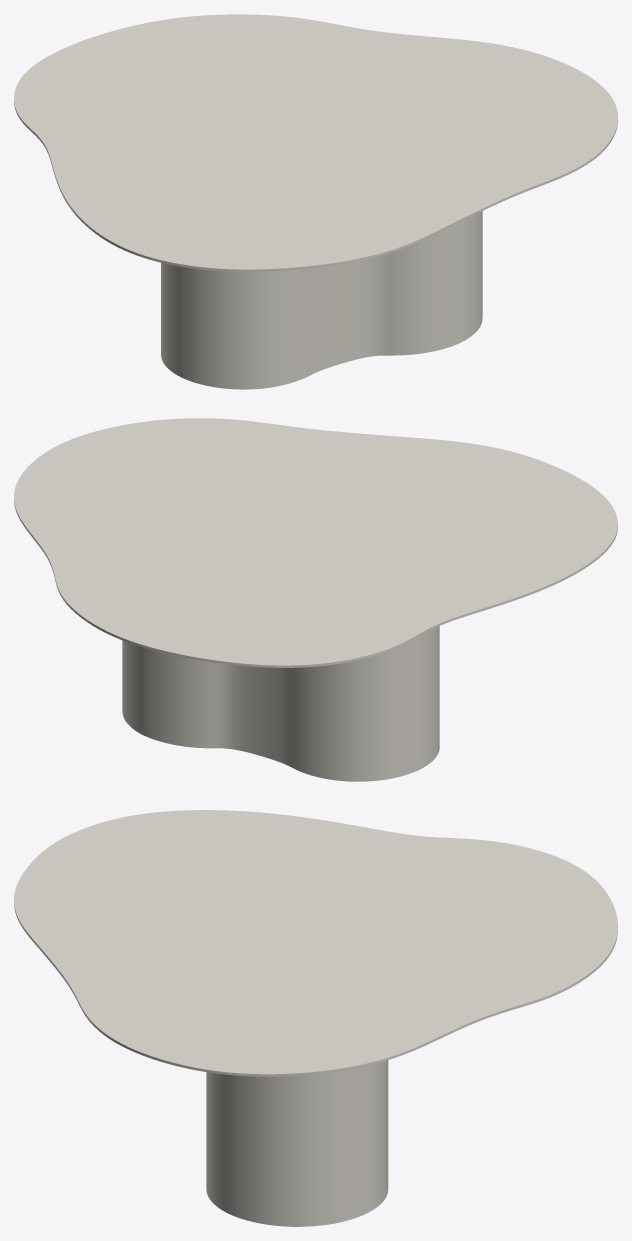
Rendered from pale_topone_facet_riverwave.glb.
3 renders of one model, top to bottom at view 1: azimuth 30°, elevation 25°; view 2: azimuth 150°, elevation 25°; view 3: azimuth 270°, elevation 25°, orthographic. The views are drawn at different scales.
Visible parts, largest first — view 1: facet_topone, riverwave; view 2: facet_topone, riverwave; view 3: facet_topone, riverwave.
Boxes of the visible parts, left/top/right/bottom form: facet_topone: left=14, top=14, right=617, bottom=271; riverwave: left=161, top=211, right=482, bottom=389; facet_topone: left=14, top=418, right=617, bottom=667; riverwave: left=122, top=626, right=439, bottom=781; facet_topone: left=14, top=810, right=617, bottom=1076; riverwave: left=206, top=1060, right=388, bottom=1226.
Size of the model in its own units: 6.83 by 2.5 by 6.6.
1 material, 1 textured.
